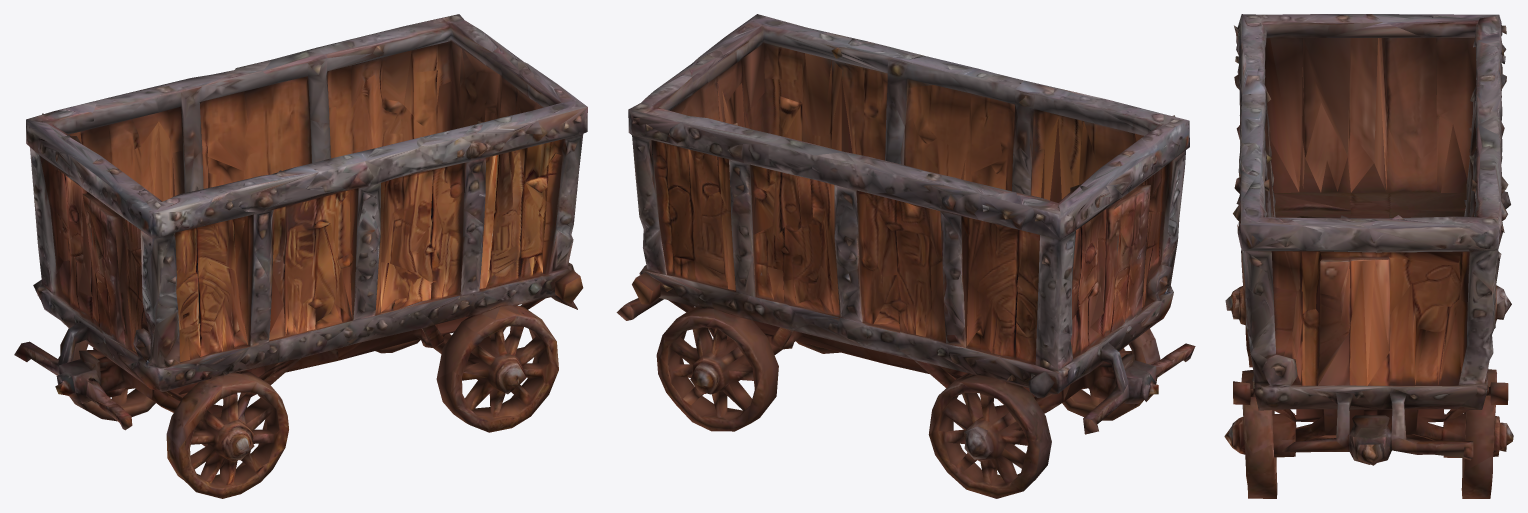
Rendered from prop_gulch_minecart.fbx.
3 renders of one model, left to right at view 1: azimuth 30°, elevation 25°; view 2: azimuth 150°, elevation 25°; view 3: azimuth 270°, elevation 25°, orthographic.
Visible parts, largest first — view 1: prop_gulch_minecart_LOD0; view 2: prop_gulch_minecart_LOD0; view 3: prop_gulch_minecart_LOD0.
Part boxes in pixels (left/top/right/bottom): prop_gulch_minecart_LOD0: left=14, top=14, right=587, bottom=498; prop_gulch_minecart_LOD0: left=616, top=14, right=1195, bottom=498; prop_gulch_minecart_LOD0: left=1224, top=14, right=1513, bottom=498.
Size of what is drawn, in the model's own units: 0.9831 by 0.5901 by 0.4946.
